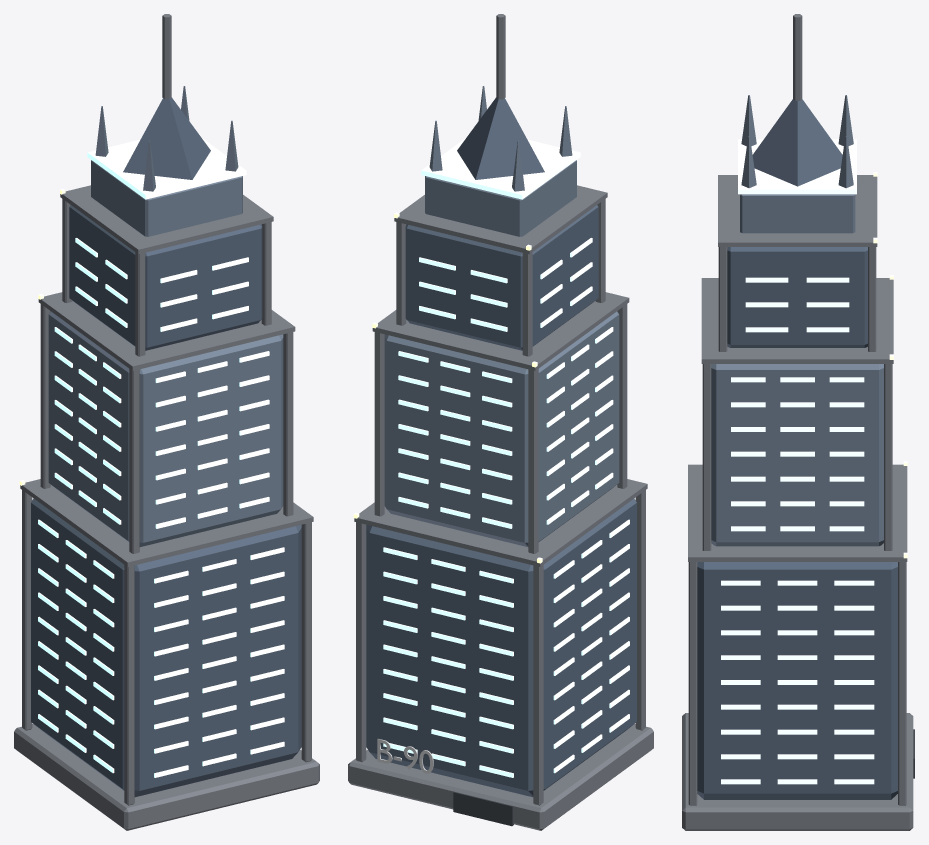
Rendered from highrise.glb.
3 views of the same model, side by side, from view 1: azimuth 30°, elevation 25°; view 2: azimuth 150°, elevation 25°; view 3: azimuth 270°, elevation 25° (orthographic). The views are drawn at different scales.
Parts seen in each view (by area): view 1: highrise, detail; view 2: highrise, detail; view 3: highrise, detail.
Part boxes in pixels (x1,y1,x2,y2): highrise: (14, 86, 319, 830); detail: (19, 14, 171, 485); highrise: (348, 86, 653, 830); detail: (353, 14, 542, 563); highrise: (682, 95, 914, 830); detail: (793, 14, 907, 558).
Bounding box in the file's own units: 27 × 99 × 27.2.
